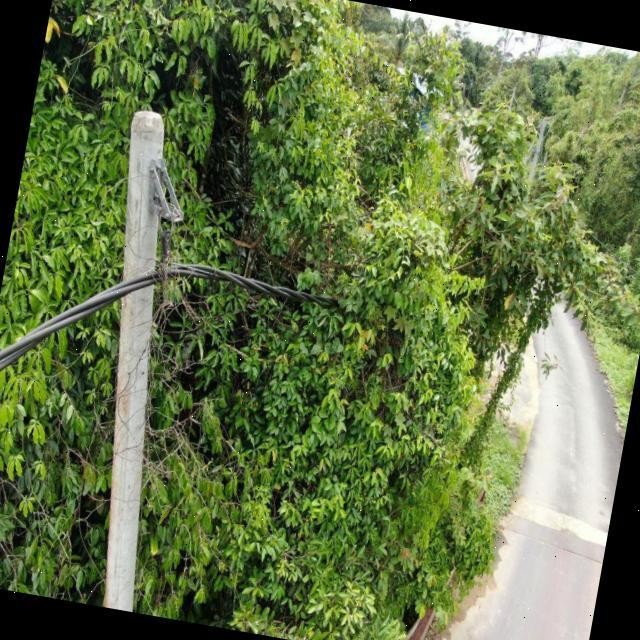critical vegetation: (88, 109, 540, 488)
